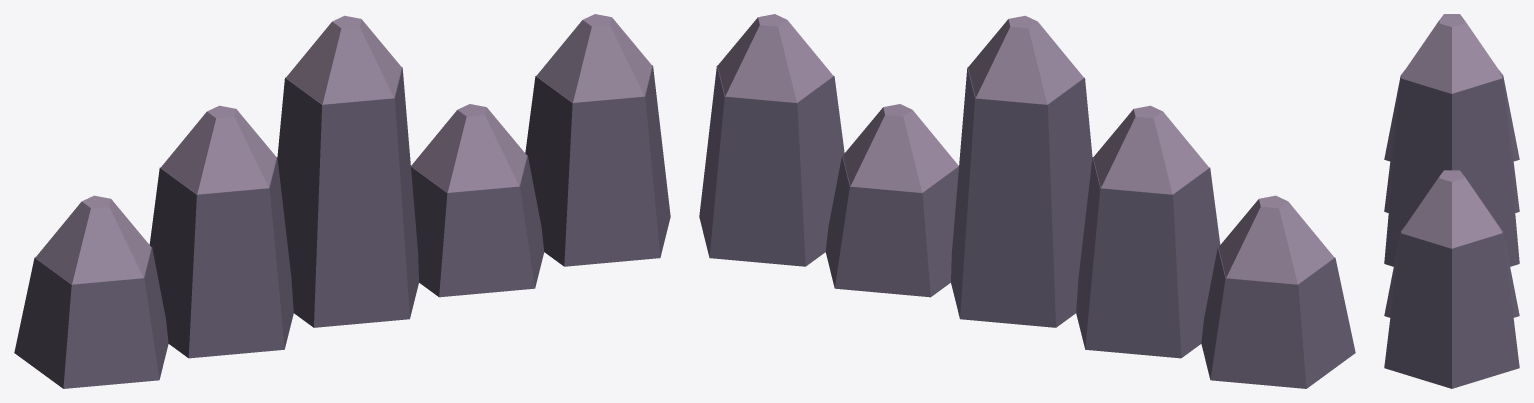
Rendered from map-exclusive-v3__dragon_13.glb.
3 renders of one model, left to right at view 1: azimuth 30°, elevation 25°; view 2: azimuth 150°, elevation 25°; view 3: azimuth 270°, elevation 25°, orthographic. The views are drawn at different scales.
Parts seen in each view (by area): view 1: dragon_13; view 2: dragon_13; view 3: dragon_13.
Boxes of the visible parts, left/top/right/bottom form: dragon_13: left=14, top=14, right=670, bottom=388; dragon_13: left=699, top=14, right=1355, bottom=388; dragon_13: left=1384, top=14, right=1519, bottom=388.
Bounding box in the file's own units: 3.23 × 1.34 × 0.7037.
